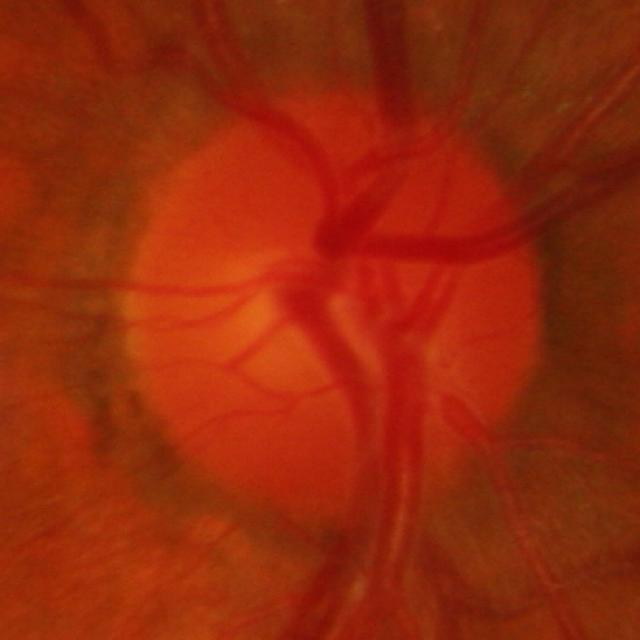OC: (240, 244, 343, 337)
OD: (120, 94, 540, 530)
